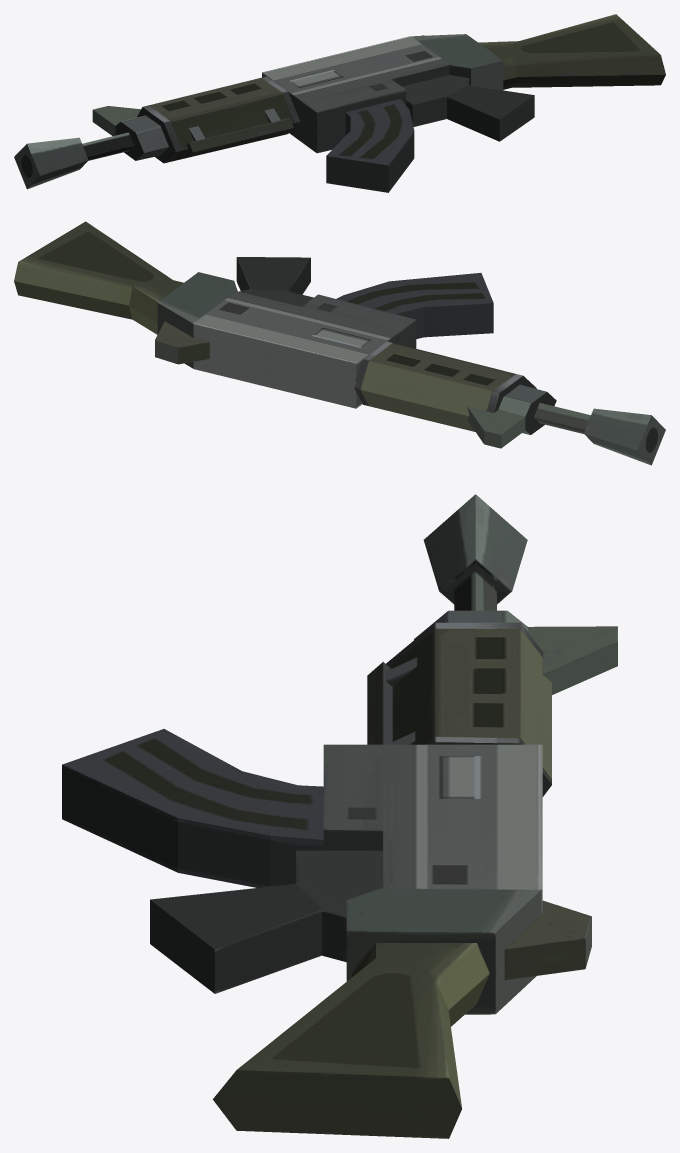
File: weapon_mg.FBX
The picture shows the model from 3 angles, top to bottom: view 1: azimuth 30°, elevation 25°; view 2: azimuth 150°, elevation 25°; view 3: azimuth 270°, elevation 25°; orthographic projection. The views are drawn at different scales.
Parts seen in each view (by area): view 1: weapon_mg; view 2: weapon_mg; view 3: weapon_mg.
Part boxes in pixels (bbox=[...]): weapon_mg: bbox=[14, 14, 665, 192]; weapon_mg: bbox=[14, 221, 665, 465]; weapon_mg: bbox=[62, 494, 617, 1138].
Bounding box in the file's own units: 169 × 12.68 × 69.65.
